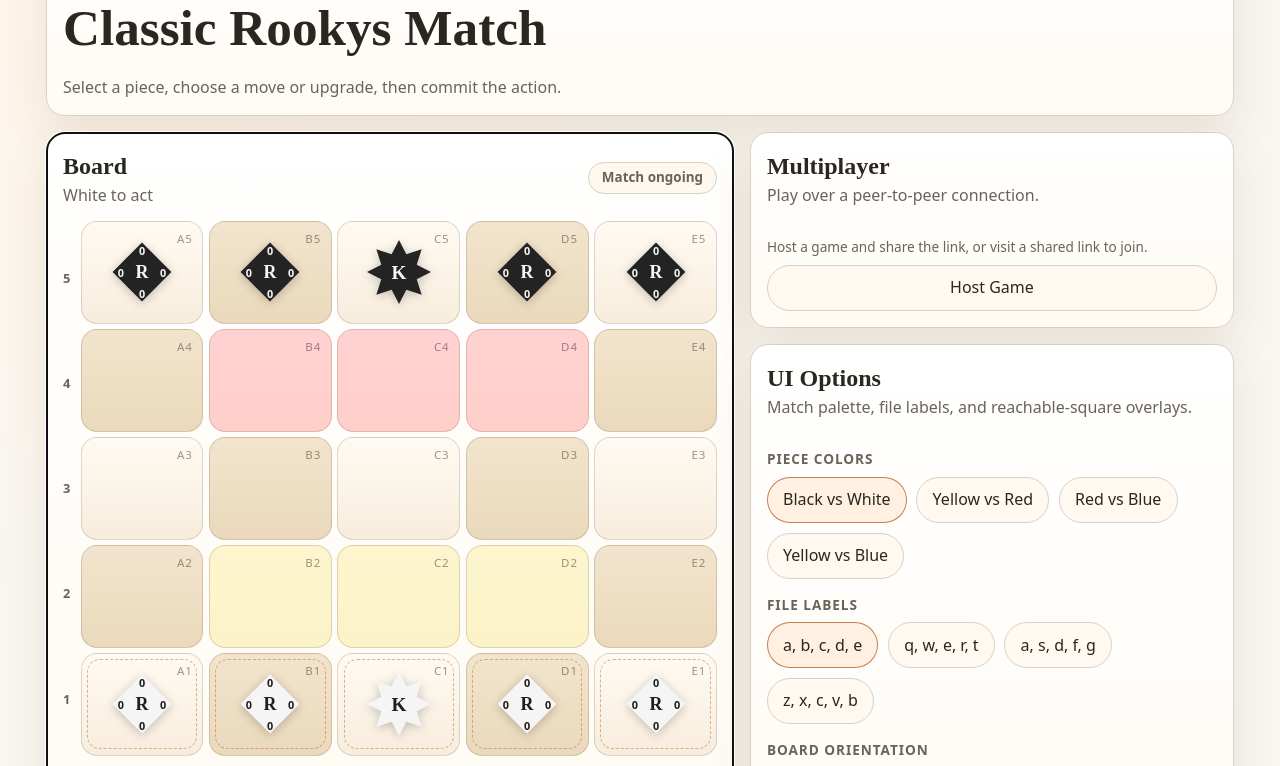
Scenario: App – multiplayer › host game: shows connected message when opponent connects
(page scrolled)
Click the button "Host Game" at (992, 288), box [767,265,1217,311]
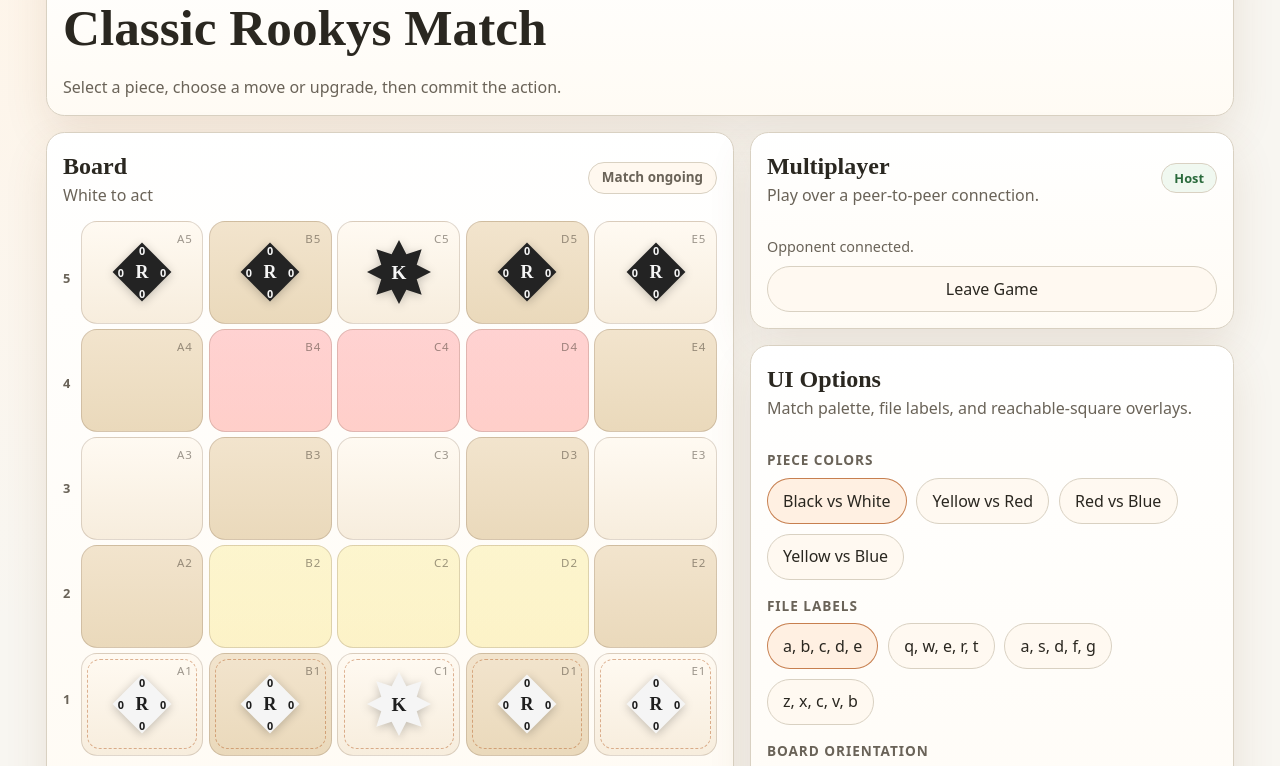
Now the text "Opponent connected." is shown, box [767,237,914,256]
